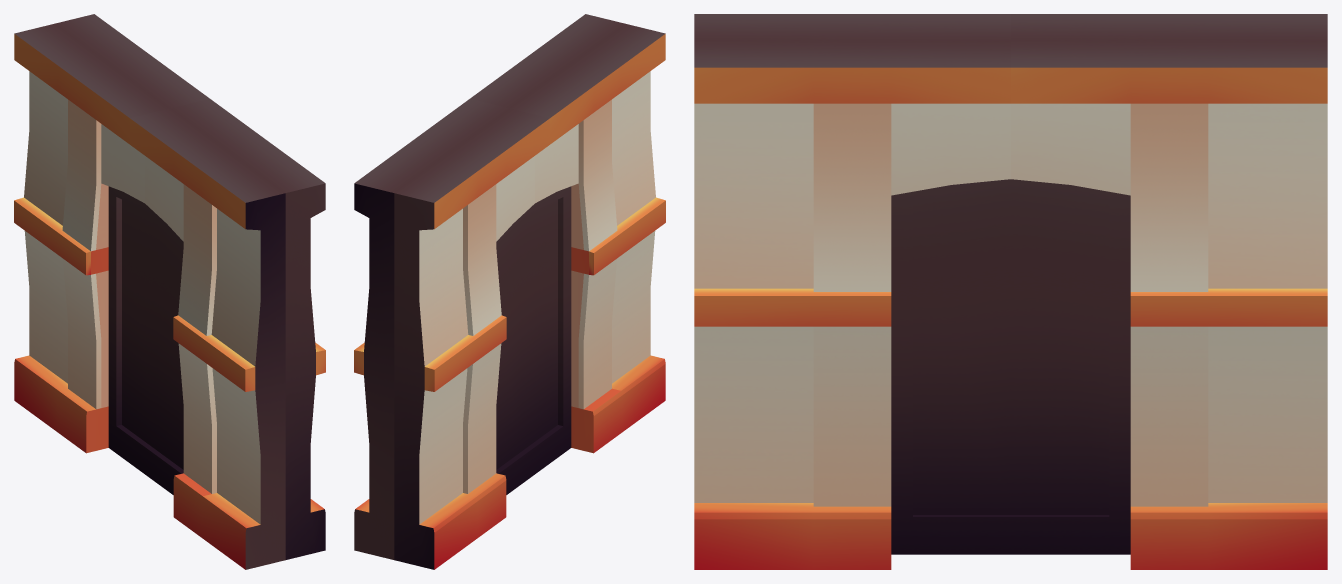
File: sliding door.fbx
3 views of the same model, side by side, from view 1: azimuth 30°, elevation 25°; view 2: azimuth 150°, elevation 25°; view 3: azimuth 270°, elevation 25° (orthographic). The views are drawn at different scales.
Visible parts, largest first — view 1: Cube.001, Cube; view 2: Cube.001, Cube; view 3: Cube.001, Cube.
Boxes of the visible parts, left/top/right/bottom form: Cube.001: left=14, top=14, right=325, bottom=569; Cube: left=108, top=186, right=183, bottom=494; Cube.001: left=354, top=14, right=665, bottom=569; Cube: left=496, top=186, right=571, bottom=494; Cube.001: left=694, top=14, right=1327, bottom=569; Cube: left=891, top=179, right=1130, bottom=554.
Bounding box in the file's own units: 80.32 × 350 × 400.
